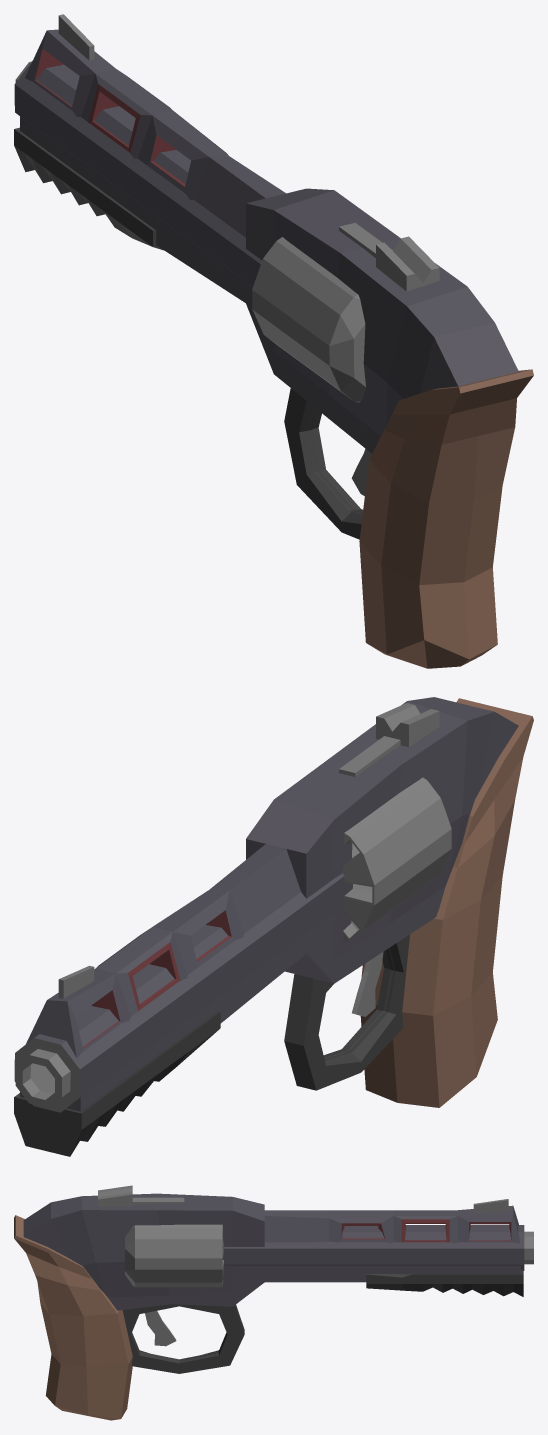
The model's file is Cobalt Sentinel.fbx.
3 views of the same model, one above another, from view 1: azimuth 30°, elevation 25°; view 2: azimuth 150°, elevation 25°; view 3: azimuth 270°, elevation 25° (orthographic). The views are drawn at different scales.
Parts seen in each view (by area): view 1: Cube; view 2: Cube; view 3: Cube.
Boxes of the visible parts, x1,y1,x2,y2 form: Cube: [14, 14, 533, 668]; Cube: [14, 697, 533, 1156]; Cube: [14, 1185, 533, 1420].
Bounding box in the file's own units: 236 × 726 × 1534.
